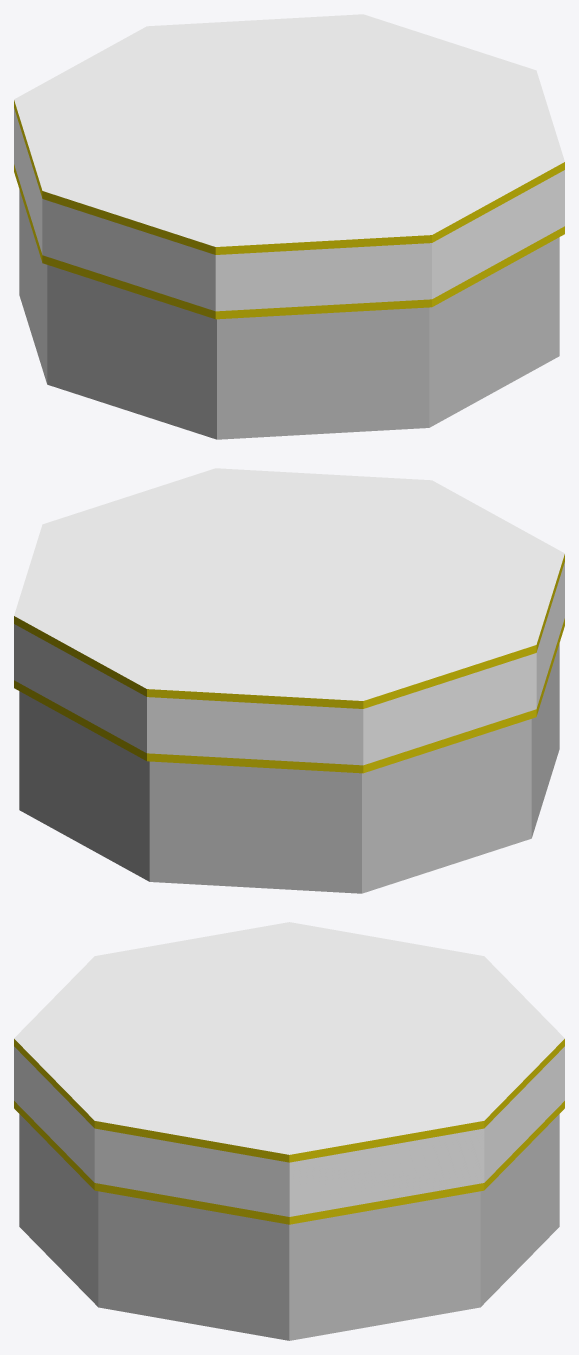
The model's file is robot_Body.fbx.
3 renders of one model, top to bottom at view 1: azimuth 30°, elevation 25°; view 2: azimuth 150°, elevation 25°; view 3: azimuth 270°, elevation 25°, orthographic. The views are drawn at different scales.
Parts seen in each view (by area): view 1: Cylinder; view 2: Cylinder; view 3: Cylinder.
Part boxes in pixels (left/top/right/bottom): Cylinder: left=14, top=14, right=564, bottom=439; Cylinder: left=14, top=468, right=564, bottom=893; Cylinder: left=14, top=922, right=564, bottom=1340.
Size of the model in its own units: 204 by 76.88 by 204.
